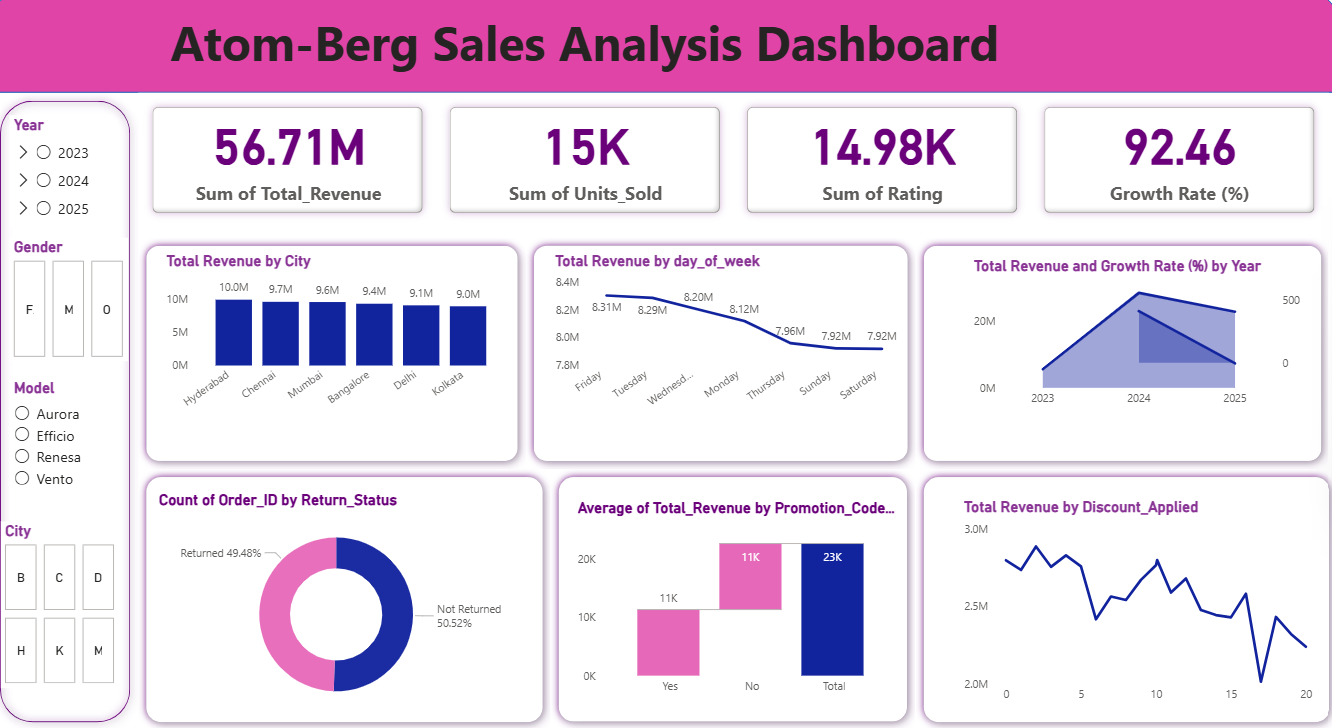

The dashboard page shown, as its layout file describes it:
{"tool":"powerbi","page":{"name":"Page 1","canvas":[1500,820],"ordinal":0},"visuals":[{"type":"shape","box":[0,0,1499.9,110],"z":0},{"type":"textbox","box":[152,12.3,1017.4,97.2],"z":1000},{"type":"shape","box":[162.9,271.6,431.7,257.6],"z":2000},{"type":"cardVisual","fields":{"Data":["Sum(Sheet1.Total_Revenue)","Sum(Sheet1.Units_Sold)","Sum(Sheet1.Rating)","Sheet1.Growth Rate (%)"]},"box":[162.9,110,1327.2,150.4],"z":3000},{"type":"columnChart","fields":{"Category":["Sheet1.City"],"Y":["Sheet1.Total Revenue"]},"box":[189.4,286.9,388.6,185.2],"z":4000},{"type":"shape","box":[594.7,271.6,434.5,257.6],"z":5000},{"type":"shape","box":[1029.2,271.6,461,257.6],"z":6000},{"type":"lineChart","fields":{"Category":["Sheet1.day_of_week"],"Y":["Sheet1.Total Revenue"]},"box":[622.6,287.2,394.7,184.5],"z":7000},{"type":"areaChart","fields":{"Y":["Sheet1.Total Revenue"],"Y2":["Sheet1.Growth Rate (%)"],"Category":["DateTable.Month","DateTable.Year"]},"box":[1089.5,292,373.9,176.5],"z":8000},{"type":"shape","box":[0,110,162.9,710.3],"z":9000},{"type":"advancedSlicerVisual","fields":{"Values":["Sheet1.Gender"]},"box":[19.5,271.6,132.3,137.9],"z":10000},{"type":"listSlicer","fields":{"Values":["Sheet1.Model"]},"box":[19.5,428.9,114.2,175.5],"z":11000},{"type":"advancedSlicerVisual","fields":{"Values":["Sheet1.City"]},"box":[9.7,587.7,132.3,185.2],"z":12000},{"type":"shape","box":[162.9,529.2,459.6,291.1],"z":13000},{"type":"shape","box":[1029.2,529.2,470.7,291.1],"z":14000},{"type":"shape","box":[622.6,529.5,406,290.4],"z":15000},{"type":"lineChart","fields":{"Category":["Sheet1.Discount_Applied"],"Y":["Sheet1.Total Revenue"]},"box":[1078.3,561.6,401.2,237.5],"z":16000},{"type":"donutChart","fields":{"Category":["Sheet1.Return_Status"],"Y":["CountNonNull(Sheet1.Order_ID)"]},"box":[181,552.9,405.3,256.3],"z":17000},{"type":"waterfallChart","fields":{"Category":["Sheet1.Promotion_Code_Used"],"Y":["Avg(Sheet1.Total_Revenue)"]},"box":[647.6,562.6,369.1,227],"z":18000},{"type":"listSlicer","fields":{"Values":["DateTable.Year","DateTable.Month"]},"box":[19.5,135.1,114.2,125.3],"z":19000}]}

Visuals, with their boxes in screenshot pixels (x1, y1, x2, y2), scaled from the page's 1500x820 canvas onto the 1332x728 screenshot:
shape: 0 0 1331 98
textbox: 135 11 1038 97
shape: 145 241 528 470
cardVisual - Sum(Sheet1.Total_Revenue) x Sum(Sheet1.Units_Sold): 145 98 1323 231
columnChart - Sheet1.City x Sheet1.Total Revenue: 168 255 513 419
shape: 528 241 914 470
shape: 914 241 1323 470
lineChart - Sheet1.day_of_week x Sheet1.Total Revenue: 553 255 903 419
areaChart - Sheet1.Total Revenue x Sheet1.Growth Rate (%): 967 259 1299 416
shape: 0 98 145 727
advancedSlicerVisual - Sheet1.Gender: 17 241 135 364
listSlicer - Sheet1.Model: 17 381 119 537
advancedSlicerVisual - Sheet1.City: 9 522 126 686
shape: 145 470 553 727
shape: 914 470 1331 727
shape: 553 470 913 727
lineChart - Sheet1.Discount_Applied x Sheet1.Total Revenue: 958 499 1314 709
donutChart - Sheet1.Return_Status x CountNonNull(Sheet1.Order_ID): 161 491 521 718
waterfallChart - Sheet1.Promotion_Code_Used x Avg(Sheet1.Total_Revenue): 575 499 903 701
listSlicer - DateTable.Year x DateTable.Month: 17 120 119 231
